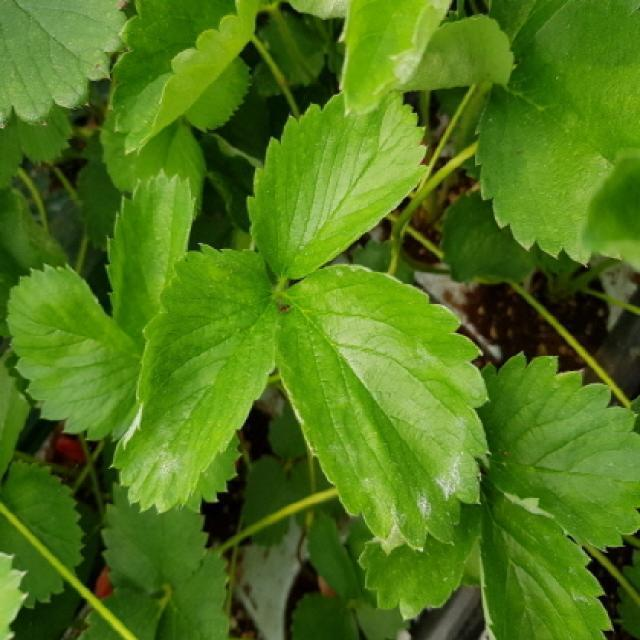powdery_mildew_leaf: (272, 264, 491, 552), (110, 242, 275, 514), (338, 0, 452, 118)
